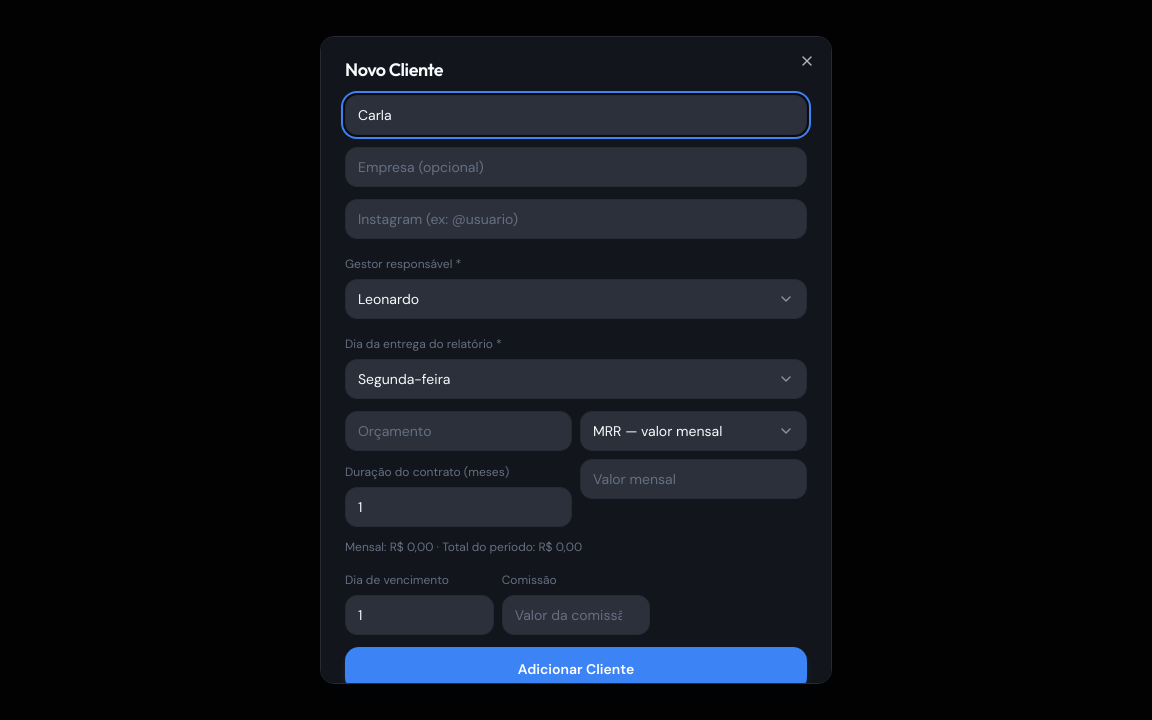
Scenario: keeps the creation form open on linking failure
The image size is (1152, 720).
Click the button "Adicionar Cliente" at (576, 669), box [345, 647, 807, 691]
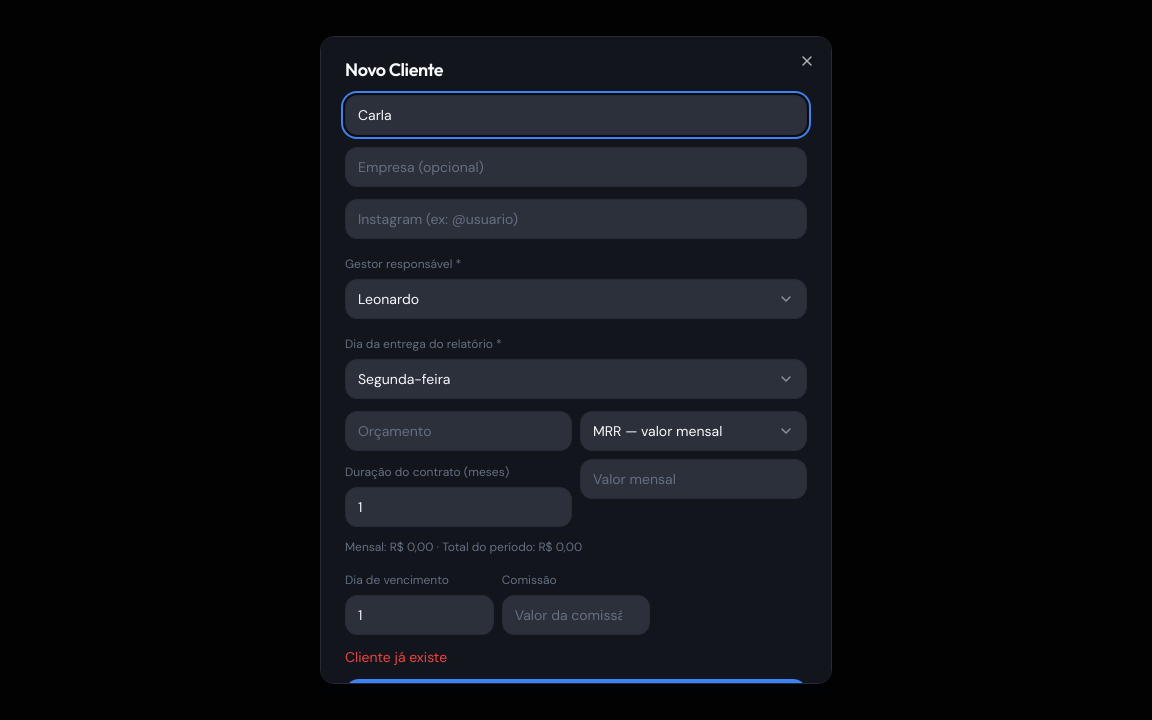
Expected: the message reads "Cliente já existe", [345, 648, 447, 666]
